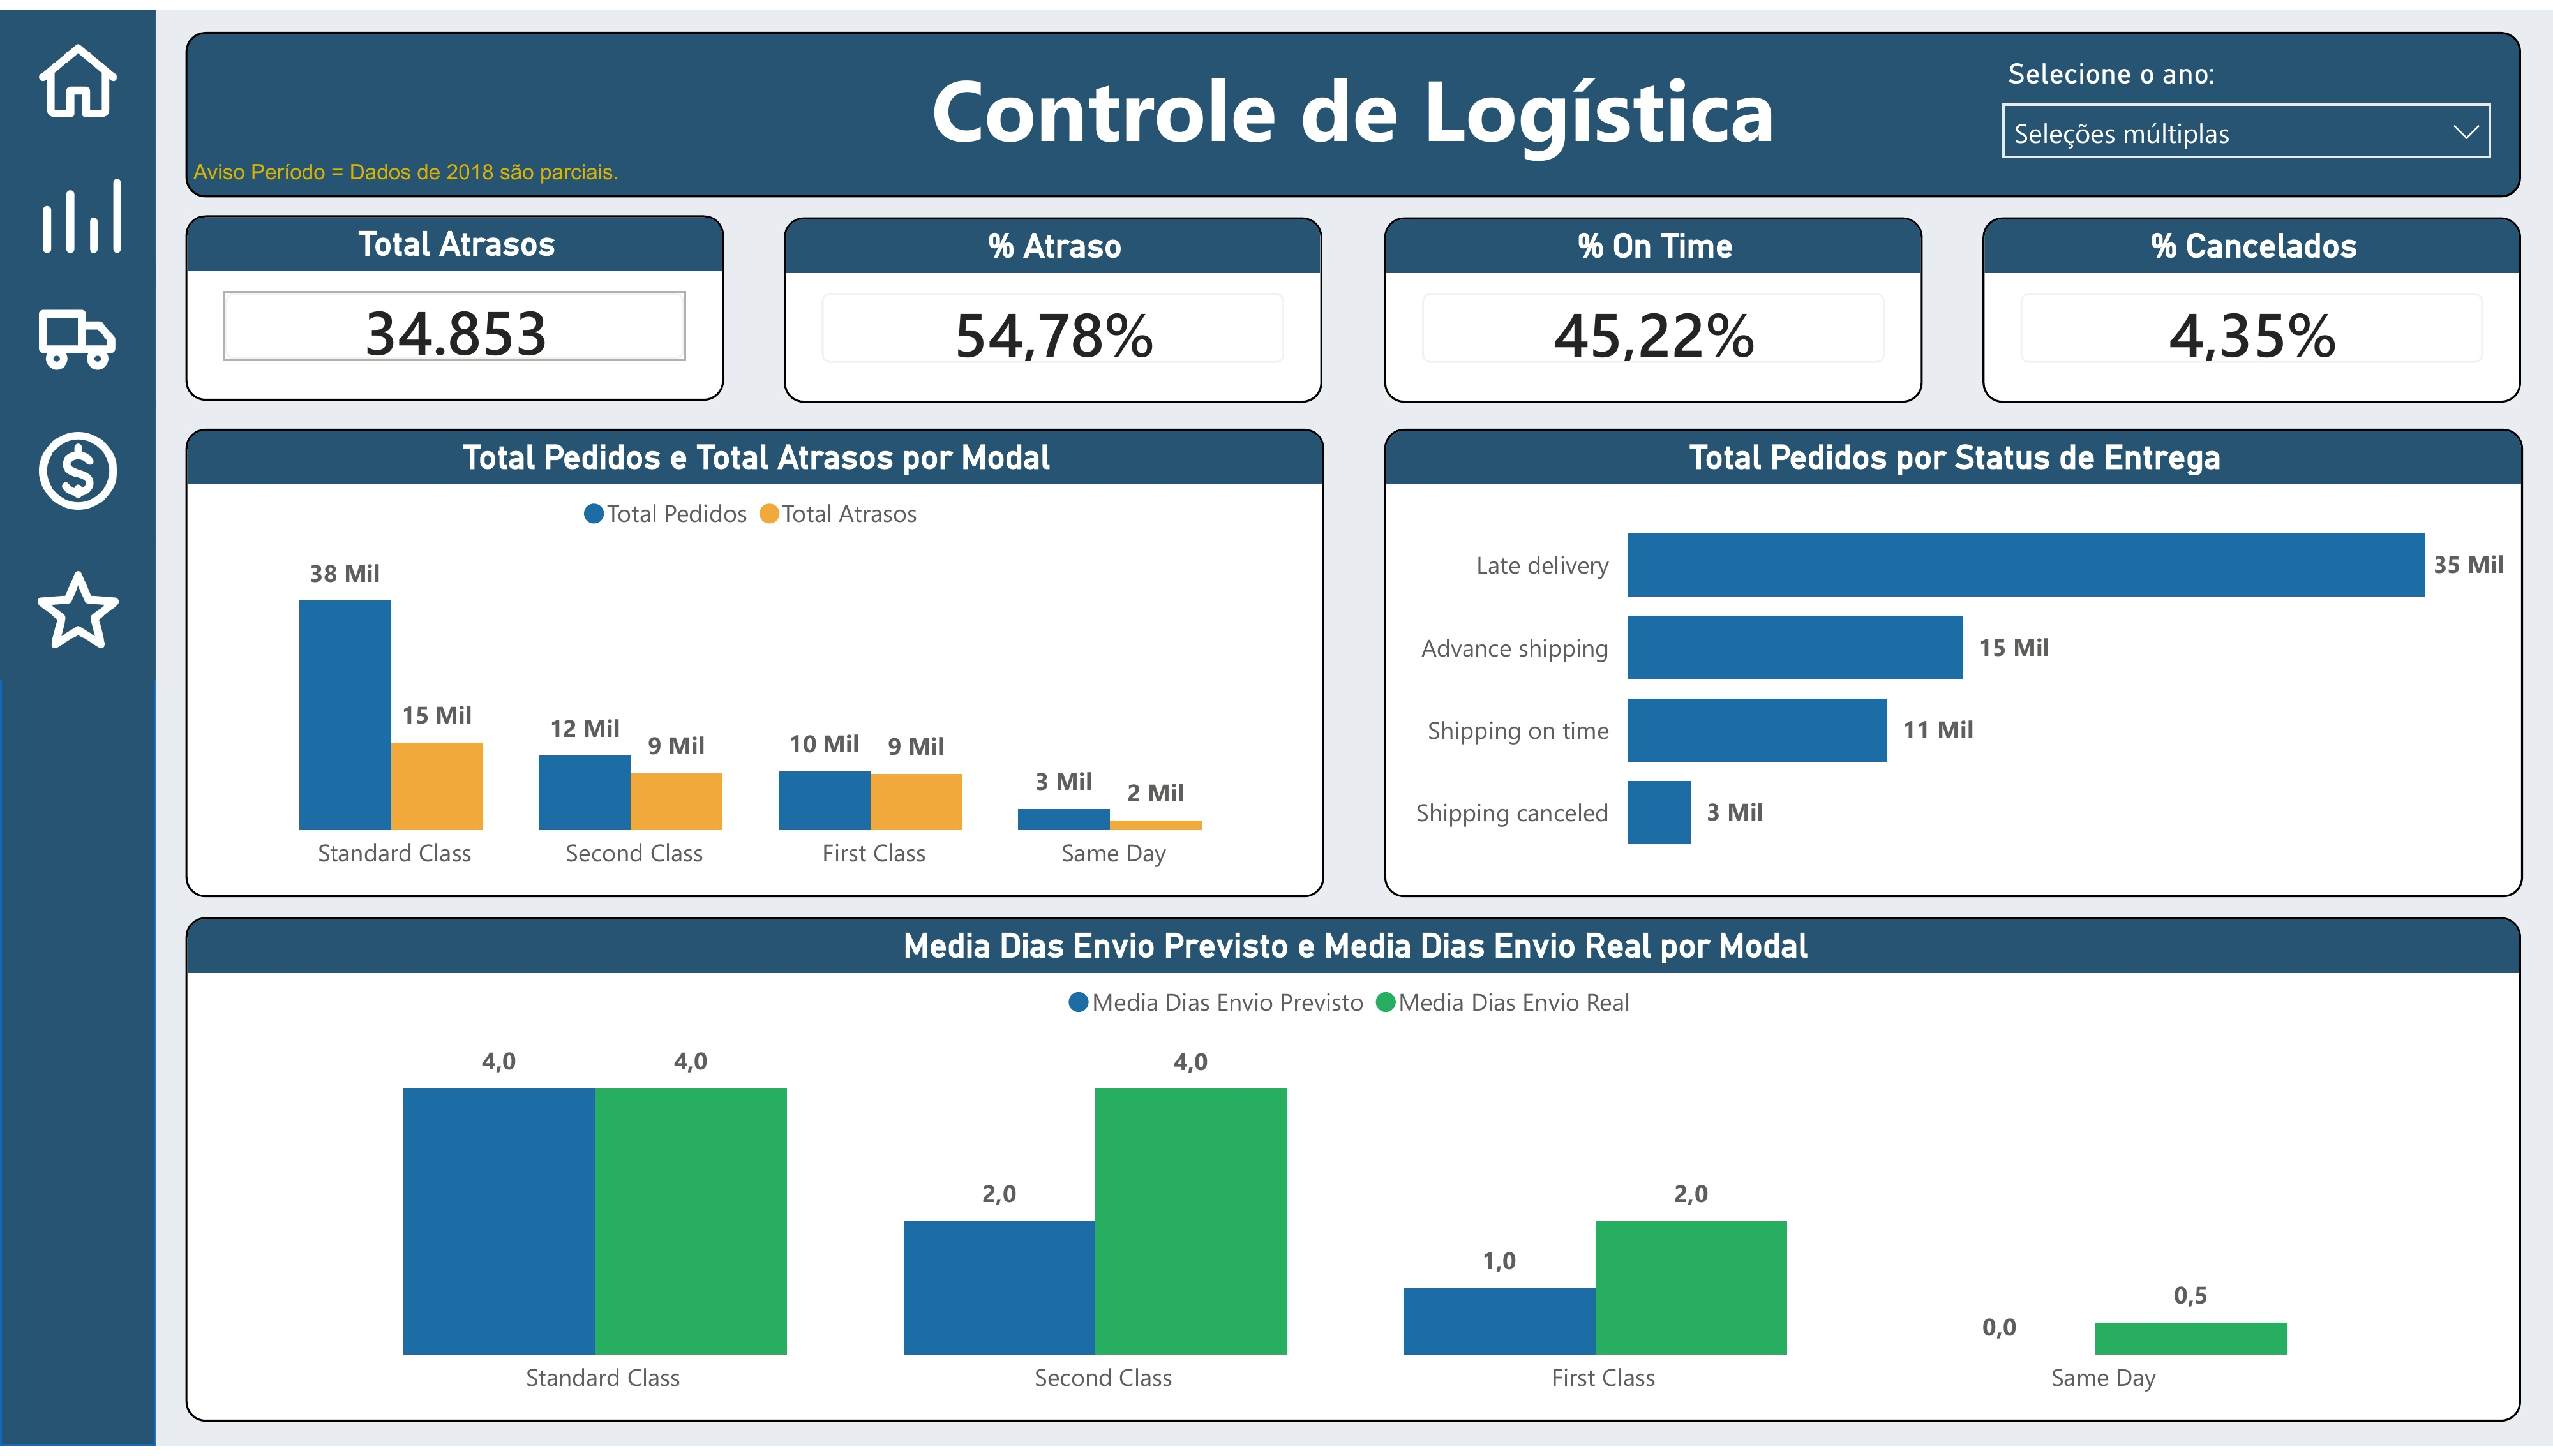

This screenshot's page, from the dashboard's own definition file:
{"tool":"powerbi","page":{"name":"Logística","canvas":[1280,720],"ordinal":2},"visuals":[{"type":"shape","box":[0,0,78.3,720.2],"z":0},{"type":"cardVisual","title":"Total Atrasos","fields":{"Data":["vw_vendas.Total Atrasos"]},"box":[92.9,103.4,270,92.9],"z":1000},{"type":"cardVisual","title":"% Atraso","fields":{"Data":["vw_vendas.% Atraso"]},"box":[393.3,103.8,270,92.9],"z":2000},{"type":"cardVisual","title":"% On Time","fields":{"Data":["vw_vendas.% No Prazo"]},"box":[693.7,103.8,270,92.9],"z":3000},{"type":"cardVisual","title":"% Cancelados","fields":{"Data":["vw_vendas.% Cancelados"]},"box":[994.1,103.8,270.2,92.9],"z":4000},{"type":"textbox","box":[92.9,10.9,1171.5,83.2],"z":5000},{"type":"slicer","fields":{"Values":["dCalendario.Date.Variation.Hierarquia de datas.Ano1"]},"box":[994.1,19.3,265.4,66.4],"z":6000},{"type":"clusteredColumnChart","fields":{"Category":["vw_vendas.modal_envio"],"Y":["vw_vendas.Total Pedidos","vw_vendas.Total Atrasos"]},"box":[92.9,209.9,570.6,235.3],"z":7000},{"type":"clusteredBarChart","fields":{"Category":["vw_vendas.status_entrega"],"Y":["vw_vendas.Total Pedidos"]},"box":[693.7,209.9,570.6,235.3],"z":8000},{"type":"clusteredColumnChart","fields":{"Category":["vw_vendas.modal_envio"],"Y":["vw_vendas.Media Dias Envio Previsto","vw_vendas.Media Dias Envio Real"]},"box":[92.9,454.8,1171.5,253.4],"z":9000},{"type":"textbox","box":[92.3,65.6,449.4,40.1],"z":10000},{"type":"image","box":[0,0,77.5,68.8],"z":10001},{"type":"image","box":[0,69,78,70],"z":10002},{"type":"image","box":[0,127,78,70],"z":10003},{"type":"image","box":[0,196,78,70],"z":10004},{"type":"image","box":[0,266,78,70],"z":10005}]}

Visuals, with their boxes on the page's 1280x720 design canvas (x1, y1, x2, y2). These are canvas units, not pixel positions in the 2553x1456 screenshot, which may show the page scaled, cropped or inside an application window:
shape: bbox=[0, 0, 78, 720]
"Total Atrasos" cardVisual: bbox=[93, 103, 363, 196]
"% Atraso" cardVisual: bbox=[393, 104, 663, 197]
"% On Time" cardVisual: bbox=[694, 104, 964, 197]
"% Cancelados" cardVisual: bbox=[994, 104, 1264, 197]
textbox: bbox=[93, 11, 1264, 94]
slicer - dCalendario.Date.Variation.Hierarquia de datas.Ano1: bbox=[994, 19, 1260, 86]
clusteredColumnChart - vw_vendas.modal_envio x vw_vendas.Total Pedidos: bbox=[93, 210, 664, 445]
clusteredBarChart - vw_vendas.status_entrega x vw_vendas.Total Pedidos: bbox=[694, 210, 1264, 445]
clusteredColumnChart - vw_vendas.modal_envio x vw_vendas.Media Dias Envio Previsto: bbox=[93, 455, 1264, 708]
textbox: bbox=[92, 66, 542, 106]
image: bbox=[0, 0, 78, 69]
image: bbox=[0, 69, 78, 139]
image: bbox=[0, 127, 78, 197]
image: bbox=[0, 196, 78, 266]
image: bbox=[0, 266, 78, 336]
